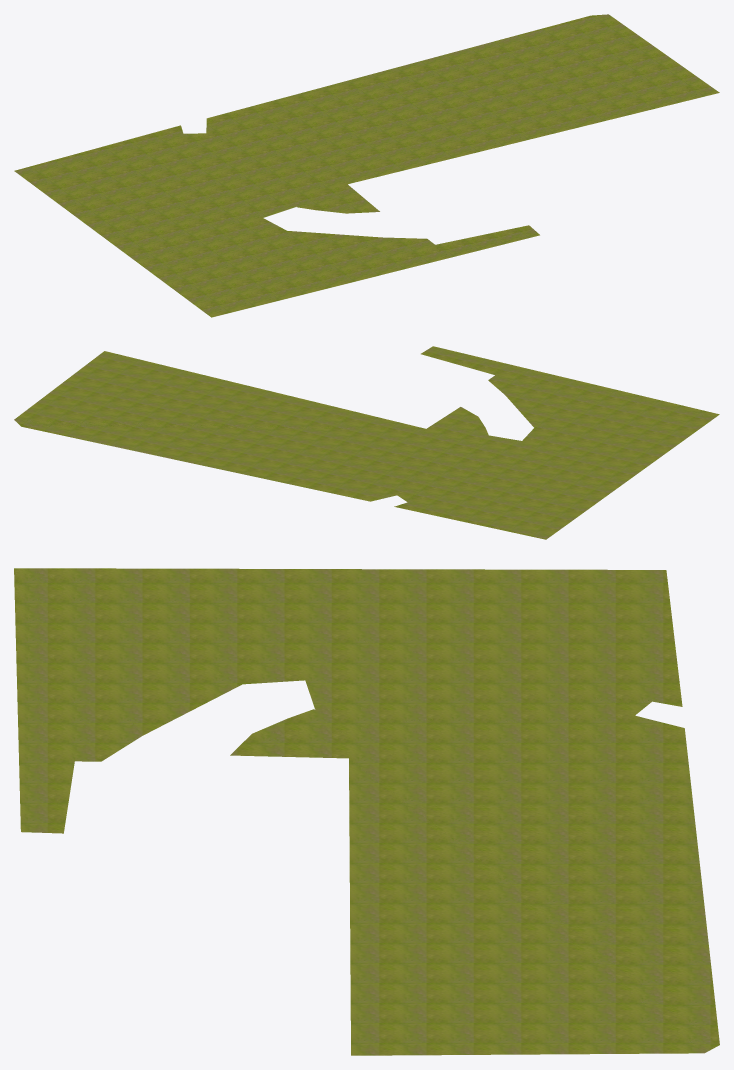
File: grassland.fbx
The picture shows the model from 3 angles, top to bottom: view 1: azimuth 30°, elevation 25°; view 2: azimuth 150°, elevation 25°; view 3: azimuth 270°, elevation 25°; orthographic projection. The views are drawn at different scales.
Parts seen in each view (by area): view 1: 草皮; view 2: 草皮; view 3: 草皮.
Boxes of the visible parts, x1,y1,x2,y2 form: 草皮: (14, 14, 719, 317); 草皮: (14, 346, 719, 539); 草皮: (14, 568, 719, 1055).
Bounding box in the file's own units: 48.75 × 0.1082 × 29.83.
Materials: 1 (1 with a texture image).
